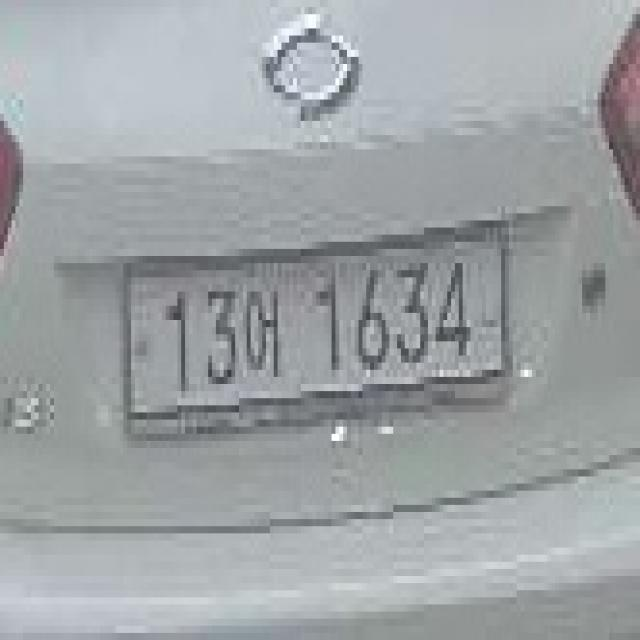1: (308, 263, 351, 391), (162, 278, 193, 412)
3: (197, 277, 243, 398), (393, 256, 436, 377)
4: (436, 234, 478, 370)
6: (355, 263, 389, 384)
eo: (243, 270, 289, 391)
license_plate: (112, 199, 513, 455)
